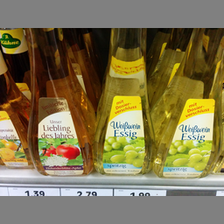vinegar: (23, 27, 98, 175), (154, 29, 224, 179), (96, 29, 156, 176)
